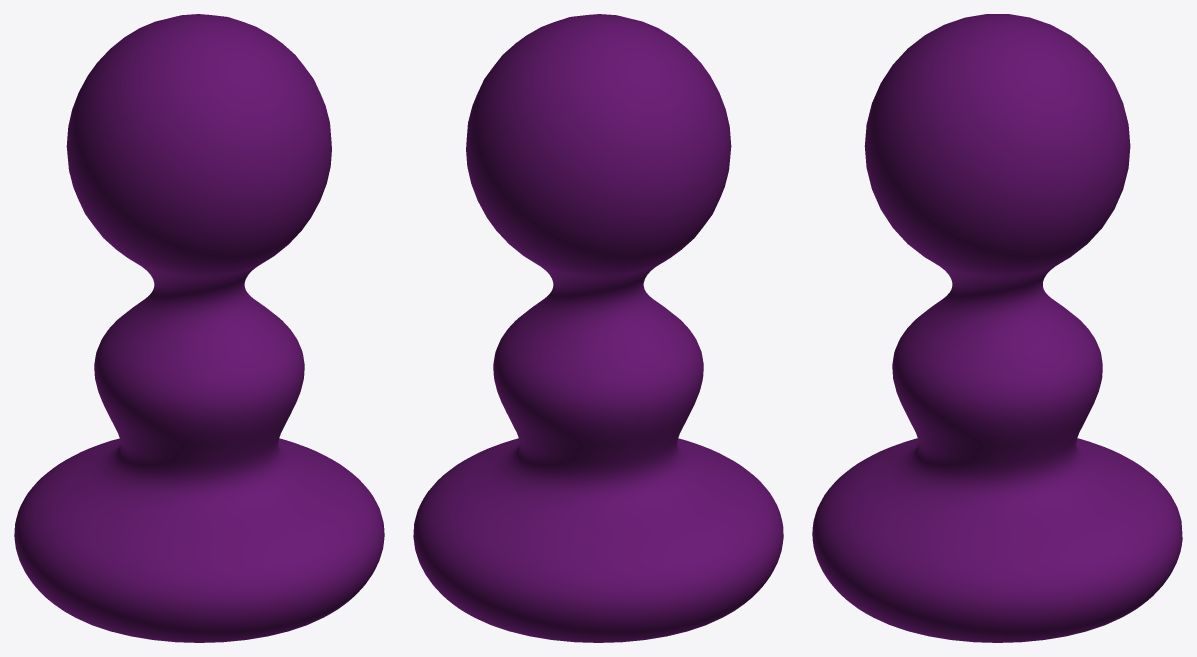
Rendered from Fate Game Piece V2 Purple.glb.
The picture shows the model from 3 angles, left to right: view 1: azimuth 30°, elevation 25°; view 2: azimuth 150°, elevation 25°; view 3: azimuth 270°, elevation 25°; orthographic projection.
Parts seen in each view (by area): view 1: Solid1; view 2: Solid1; view 3: Solid1.
Boxes of the visible parts, x1,y1,x2,y2 form: Solid1: (14,14,384,642); Solid1: (413,14,783,642); Solid1: (812,14,1182,642).
Size of the model in its own units: 0.0334 by 0.0547 by 0.0334.
